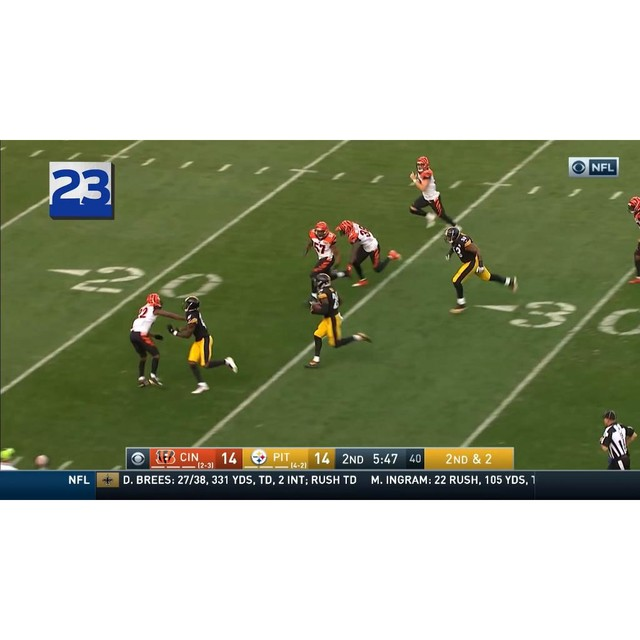american-football-player: (304, 272, 374, 368), (170, 295, 237, 392), (444, 224, 517, 313), (336, 220, 401, 286), (129, 294, 171, 387), (408, 156, 455, 230), (302, 222, 343, 297), (628, 197, 640, 288)
referee: (599, 409, 638, 472)
